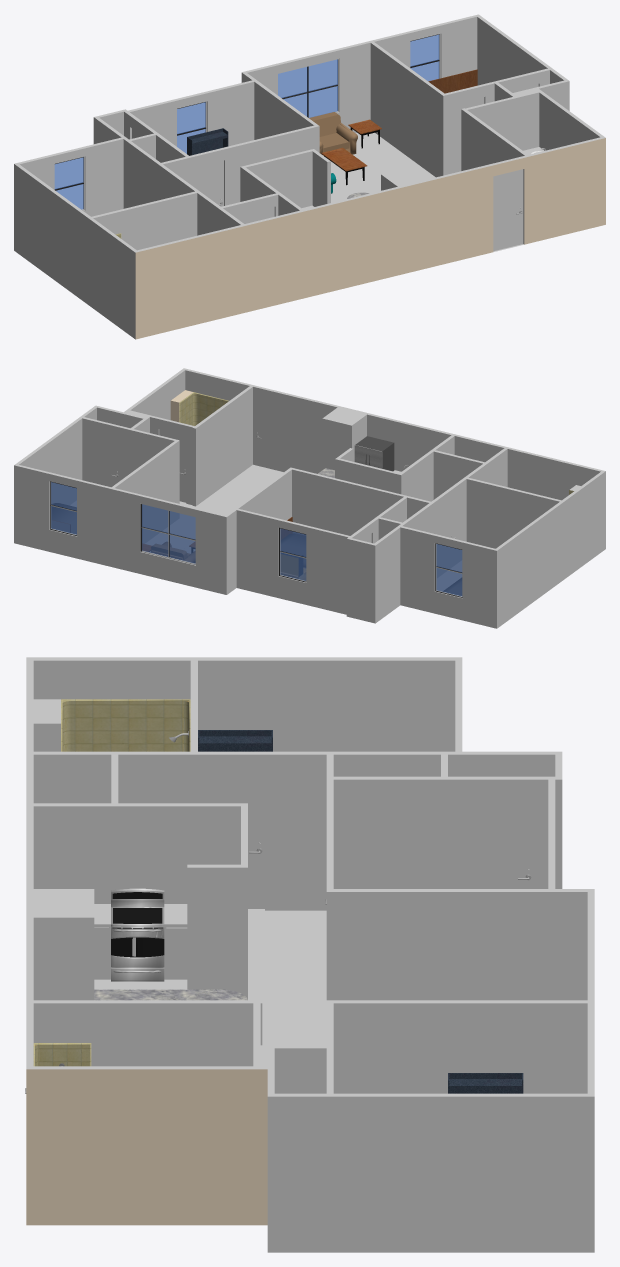
The model's file is 3+bedroom+Furniture.glb.
3 renders of one model, top to bottom at view 1: azimuth 30°, elevation 25°; view 2: azimuth 150°, elevation 25°; view 3: azimuth 270°, elevation 25°, orthographic. The views are drawn at different scales.
Parts seen in each view (by area): view 1: _(Loose Entity), C-Component#10, C-small window.001, C-small window, C-small window.002, C-HRL desk shelf.001, _C-Group#110 (Loose Mesh), C-bed, C-Group#109; view 2: _(Loose Entity), C-Component#10, C-small window.001, C-small window, C-small window.002, C-Shower, G-Object.024, C-bed, C-bed.001, C-HRL desk shelf.001; view 3: _(Loose Entity), C-Shower.001, G-Object.020, C-HRL desk shelf.002, C-HRL desk shelf, G-Object.017, C-Shower.
Part boxes in pixels (bbox=[...]): _(Loose Entity): bbox=[14, 14, 605, 339]; C-Component#10: bbox=[277, 58, 339, 117]; C-small window.001: bbox=[54, 156, 85, 210]; C-small window: bbox=[410, 33, 441, 81]; C-small window.002: bbox=[176, 101, 207, 153]; C-HRL desk shelf.001: bbox=[187, 128, 228, 155]; _C-Group#110 (Loose Mesh): bbox=[319, 123, 357, 159]; C-bed: bbox=[428, 69, 477, 93]; C-Group#109: bbox=[309, 112, 340, 136]; _(Loose Entity): bbox=[14, 368, 605, 628]; C-Component#10: bbox=[140, 503, 195, 565]; C-small window.001: bbox=[434, 543, 462, 598]; C-small window: bbox=[49, 481, 77, 536]; C-small window.002: bbox=[278, 527, 306, 582]; C-Shower: bbox=[179, 392, 228, 425]; G-Object.024: bbox=[355, 436, 394, 471]; C-bed: bbox=[52, 503, 76, 533]; C-bed.001: bbox=[281, 517, 305, 566]; C-HRL desk shelf.001: bbox=[281, 553, 302, 576]; _(Loose Entity): bbox=[26, 657, 594, 1252]; C-Shower.001: bbox=[61, 699, 190, 751]; G-Object.020: bbox=[111, 926, 164, 967]; C-HRL desk shelf.002: bbox=[198, 730, 272, 751]; C-HRL desk shelf: bbox=[448, 1073, 523, 1093]; G-Object.017: bbox=[111, 900, 164, 926]; C-Shower: bbox=[33, 1043, 91, 1066].
Bounding box in the file's own units: 14.77 × 2.46 × 8.09.
Materials: 39 (18 with a texture image).
